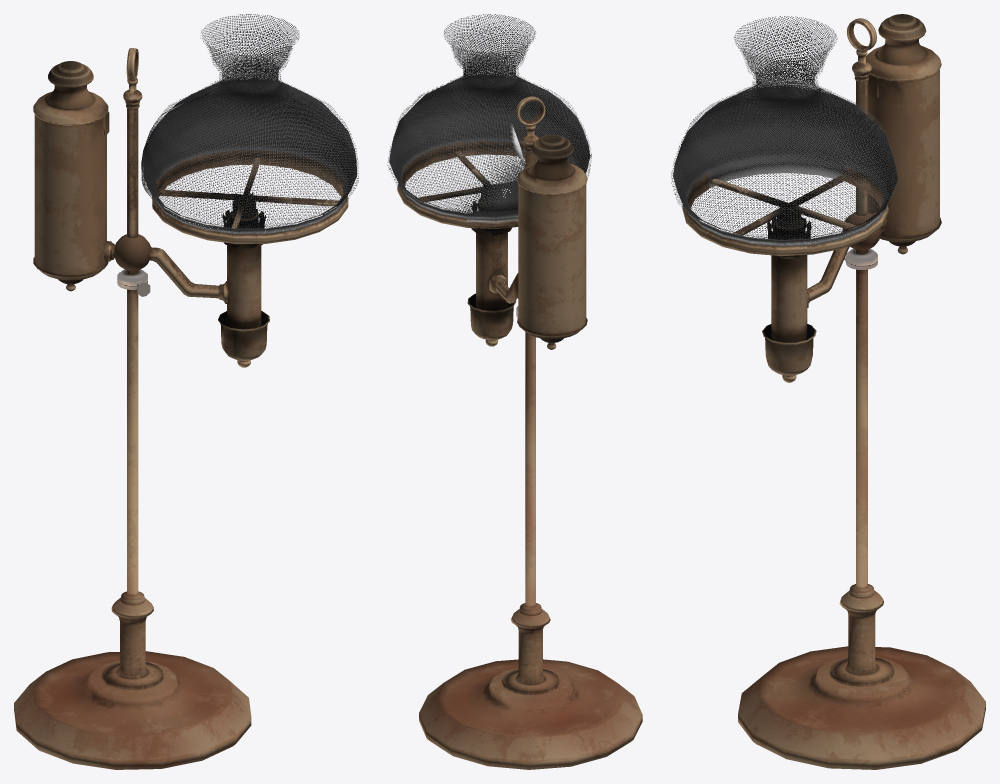
Rendered from candeeiro.glb.
The picture shows the model from 3 angles, left to right: view 1: azimuth 30°, elevation 25°; view 2: azimuth 150°, elevation 25°; view 3: azimuth 270°, elevation 25°; orthographic projection. The views are drawn at different scales.
Parts seen in each view (by area): view 1: Victorian_Brass_Oil_Lamp_01; view 2: Victorian_Brass_Oil_Lamp_01; view 3: Victorian_Brass_Oil_Lamp_01.
Boxes of the visible parts, left/top/right/bottom form: Victorian_Brass_Oil_Lamp_01: left=14, top=14, right=358, bottom=769; Victorian_Brass_Oil_Lamp_01: left=387, top=14, right=642, bottom=769; Victorian_Brass_Oil_Lamp_01: left=671, top=14, right=985, bottom=769.
Size of the model in its own units: 0.6225 by 1.48 by 0.5843.
Materials: 2 (1 with a texture image).
